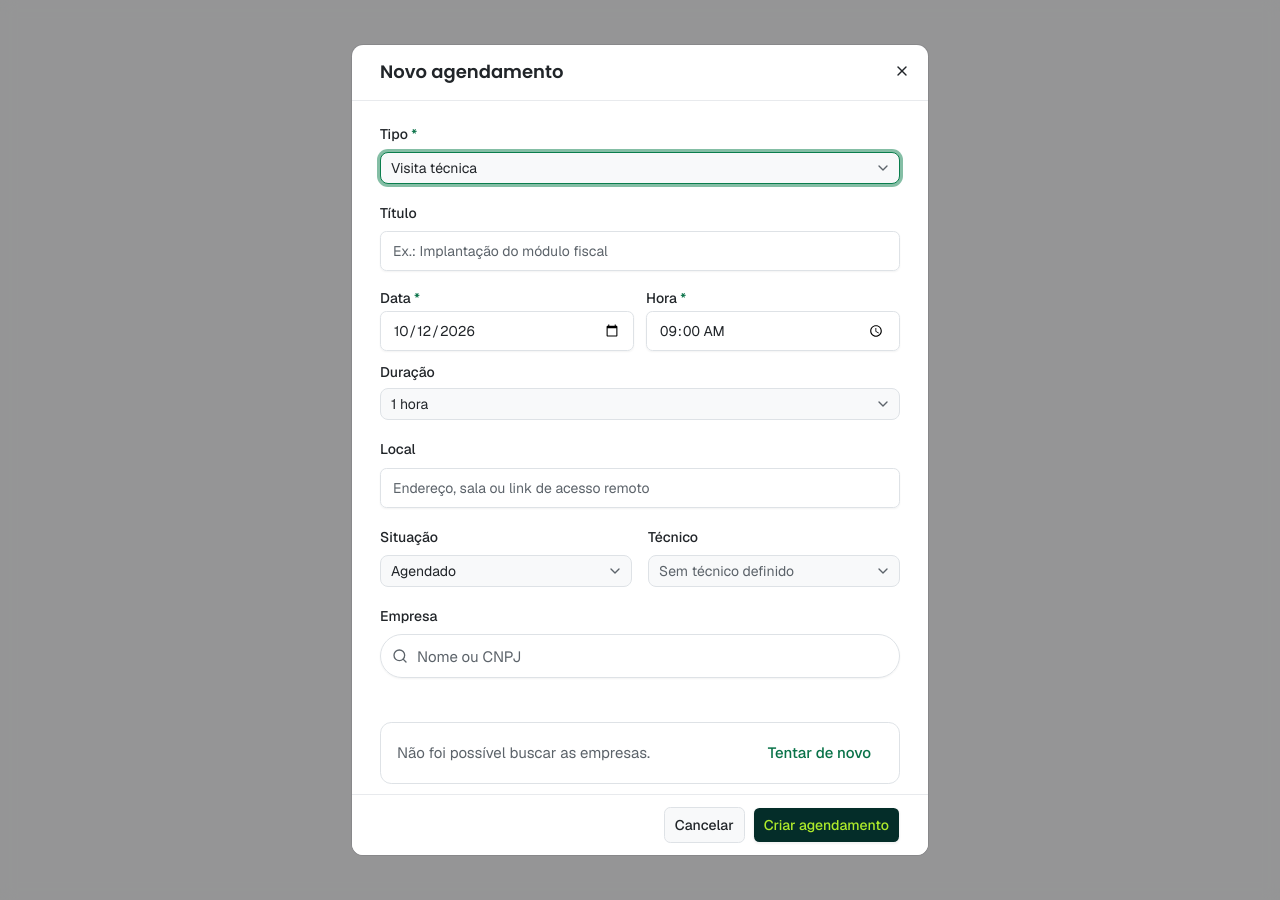
Test: AppointmentDialog — conflito de horário › avisa quando o técnico escolhido já tem compromisso no horário, sem impedir
What coordinates should you click on to do the following:
click the dropdown labelled "técnico"
I would click on:
 (774, 571)
Its box is [648,555,900,587].
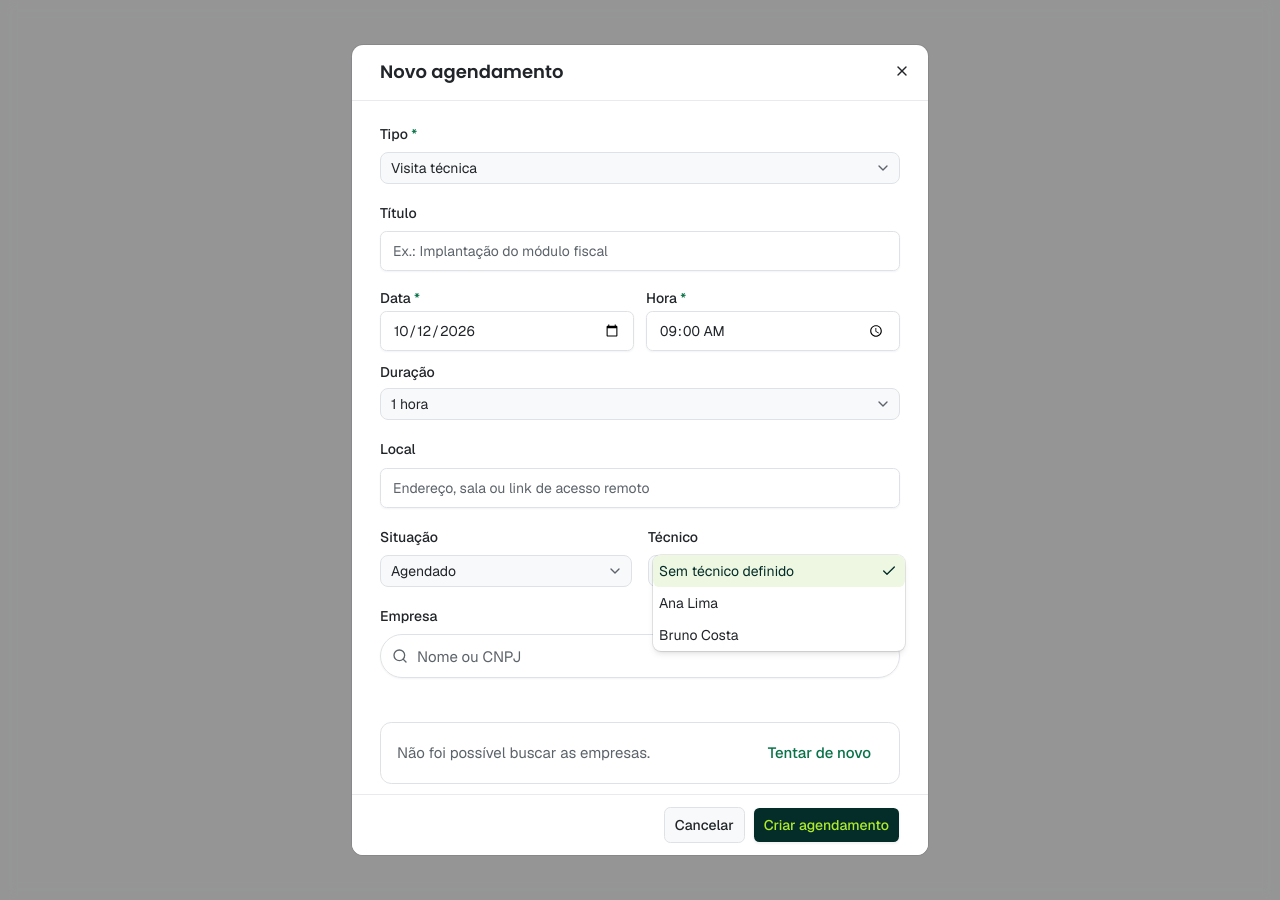
What coordinates should you click on to do the following:
click the option "Ana Lima"
I would click on:
 (689, 603)
Its box is [659,594,718,612].
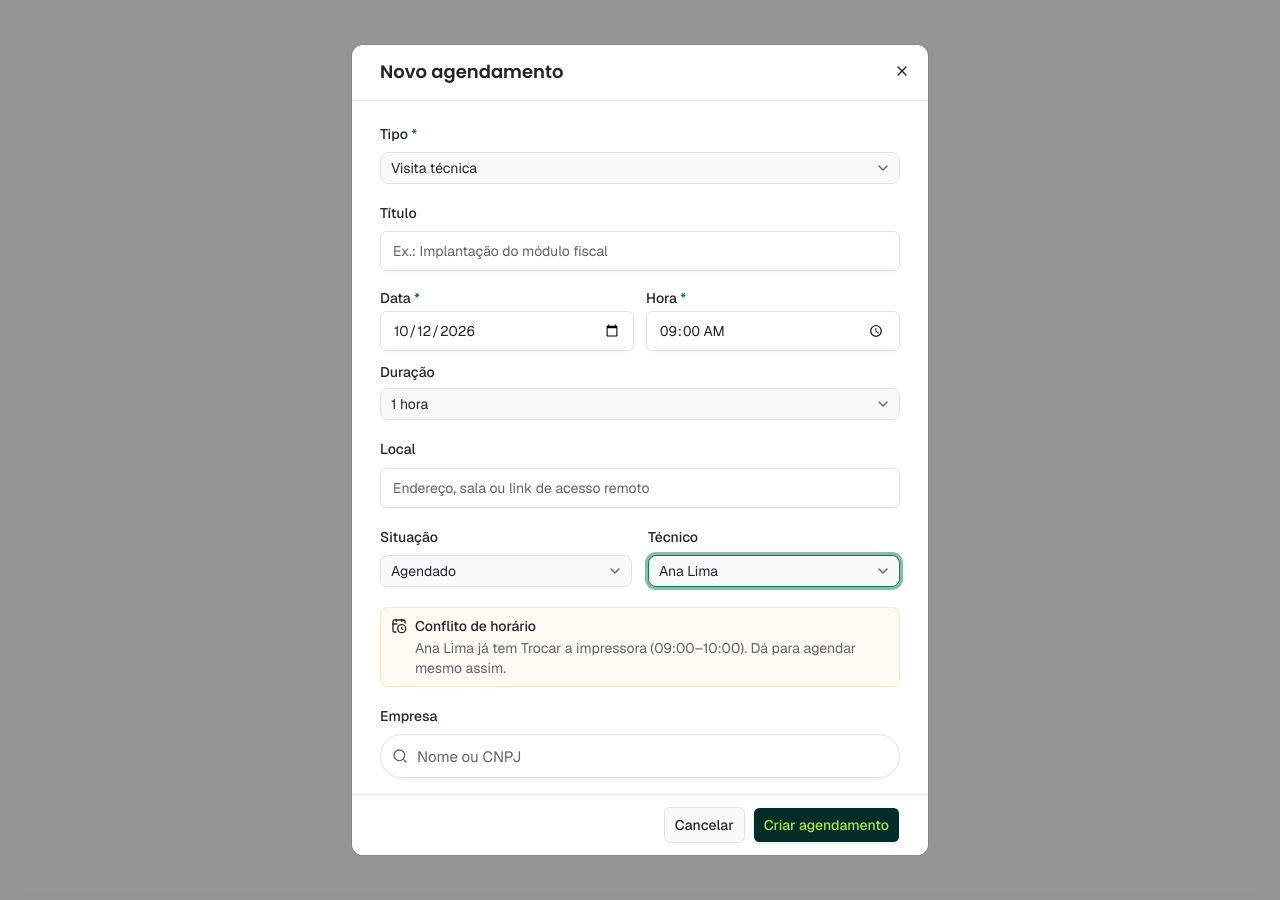
Expected: the button "Criar agendamento" is enabled, [753,807,900,843]
Now the message shows "Conflito de horário", box [415,617,536,635]
Now the message shows "Ana Lima já tem Trocar a impressora (09:00–10:00). Dá para agendar mesmo assim.", box [380,607,900,687]
